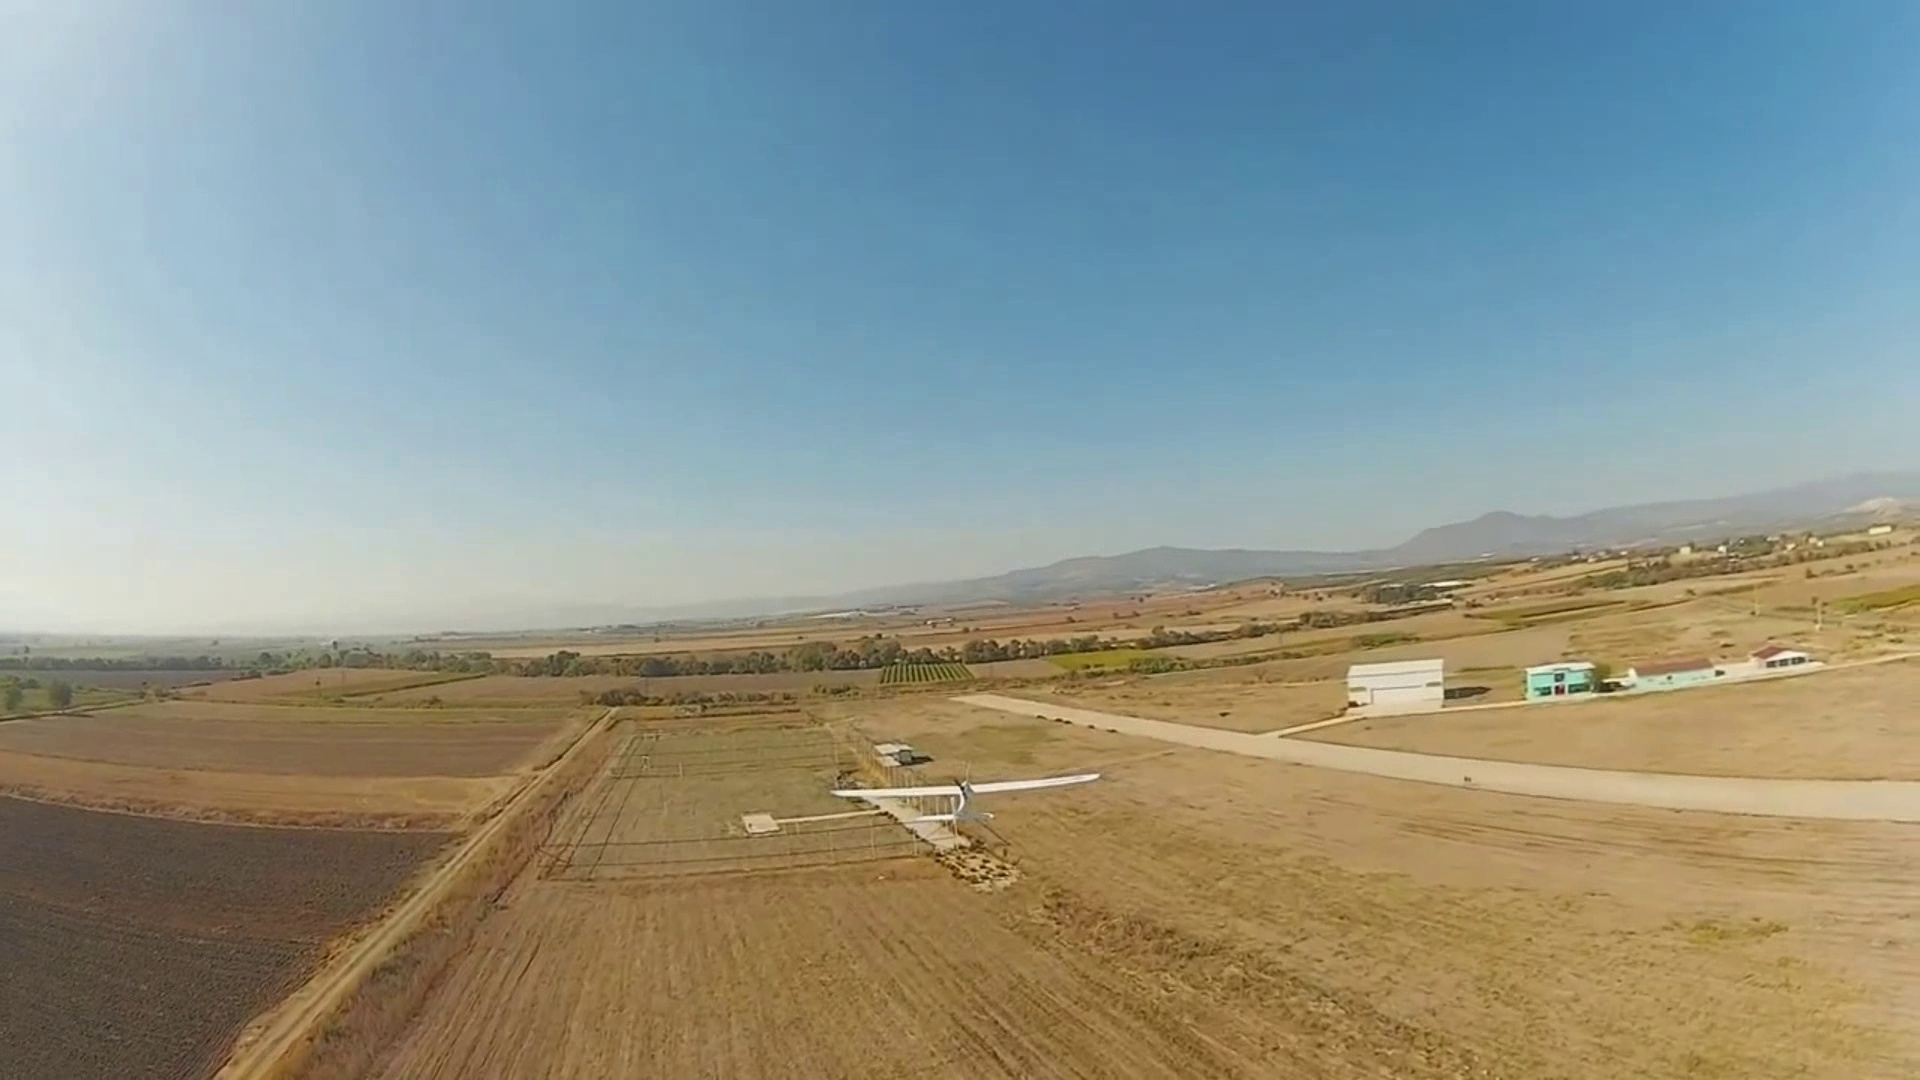airplane: (829, 744, 1104, 837)
